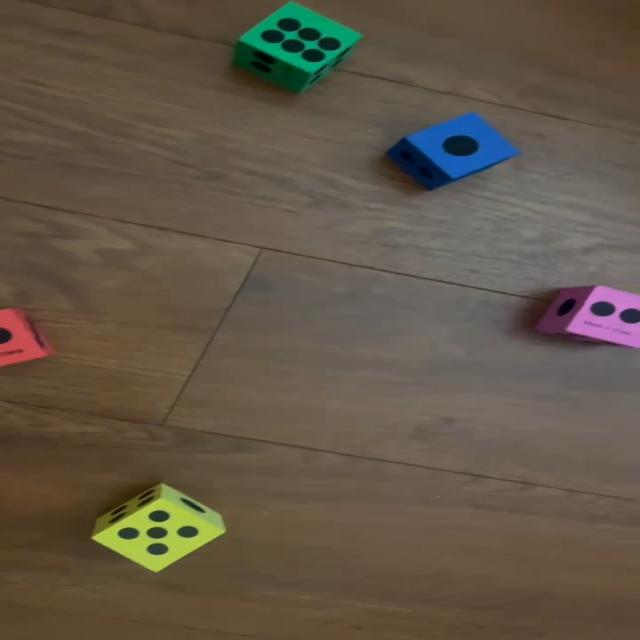blue_block: (389, 115, 519, 189)
red_block: (0, 307, 52, 369)
